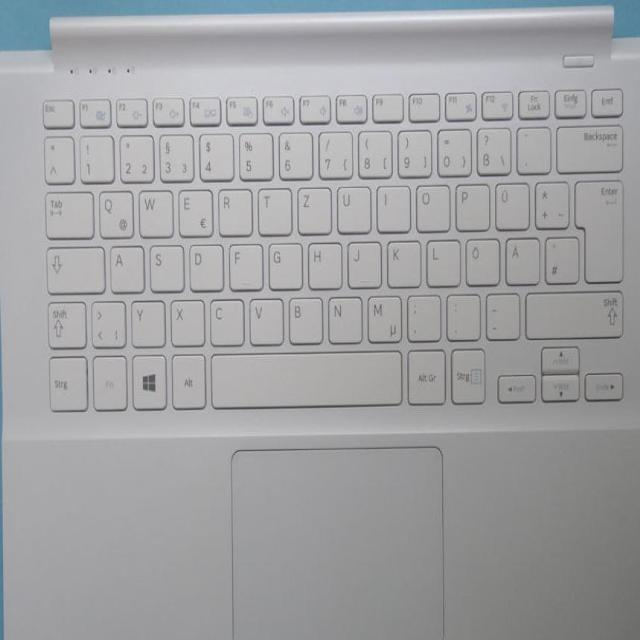0: (434, 124, 469, 174)
1: (76, 131, 112, 179)
2: (116, 130, 153, 179)
3: (155, 130, 192, 178)
4: (196, 129, 231, 177)
5: (234, 128, 271, 177)
6: (275, 127, 310, 176)
7: (315, 127, 350, 176)
8: (354, 126, 390, 175)
9: (394, 125, 429, 174)
a: (107, 241, 142, 289)
accent: (514, 122, 549, 171)
ae: (502, 232, 537, 282)
alt-left: (168, 351, 204, 408)
altgr-right: (404, 346, 444, 403)
b: (285, 293, 321, 341)
c: (207, 295, 242, 343)
caret: (41, 132, 72, 181)
comma: (403, 289, 438, 339)
d: (185, 240, 221, 288)
del: (554, 120, 623, 170)
e: (175, 184, 211, 234)
enter: (572, 174, 622, 280)
f: (226, 240, 261, 287)
g: (265, 239, 300, 287)
h: (305, 238, 340, 286)
hash: (542, 231, 577, 281)
i: (373, 181, 408, 229)
j: (344, 237, 379, 285)
k: (383, 236, 418, 285)
keyboard: (31, 71, 637, 428)
l: (424, 234, 458, 283)
less: (88, 296, 124, 345)
m: (363, 290, 399, 340)
minus: (481, 288, 518, 337)
n: (325, 292, 360, 340)
o: (413, 180, 448, 228)
oe: (462, 233, 497, 282)
p: (452, 179, 487, 228)
plus: (531, 176, 567, 226)
point: (442, 289, 478, 338)
q: (95, 186, 132, 235)
r: (215, 184, 250, 233)
s: (146, 241, 181, 288)
shift-left: (43, 297, 84, 345)
shift-lock: (42, 241, 103, 290)
shift-right: (521, 286, 622, 336)
space: (209, 347, 401, 407)
ss: (473, 123, 508, 172)
strg-left: (45, 352, 86, 409)
strg-right: (447, 345, 484, 403)
t: (255, 183, 290, 232)
tab: (42, 186, 91, 235)
u: (334, 181, 369, 230)
ue: (491, 177, 527, 227)
v: (246, 294, 281, 342)
w: (135, 185, 170, 234)
x: (168, 295, 203, 343)
y: (128, 296, 163, 344)
z: (294, 182, 329, 231)
